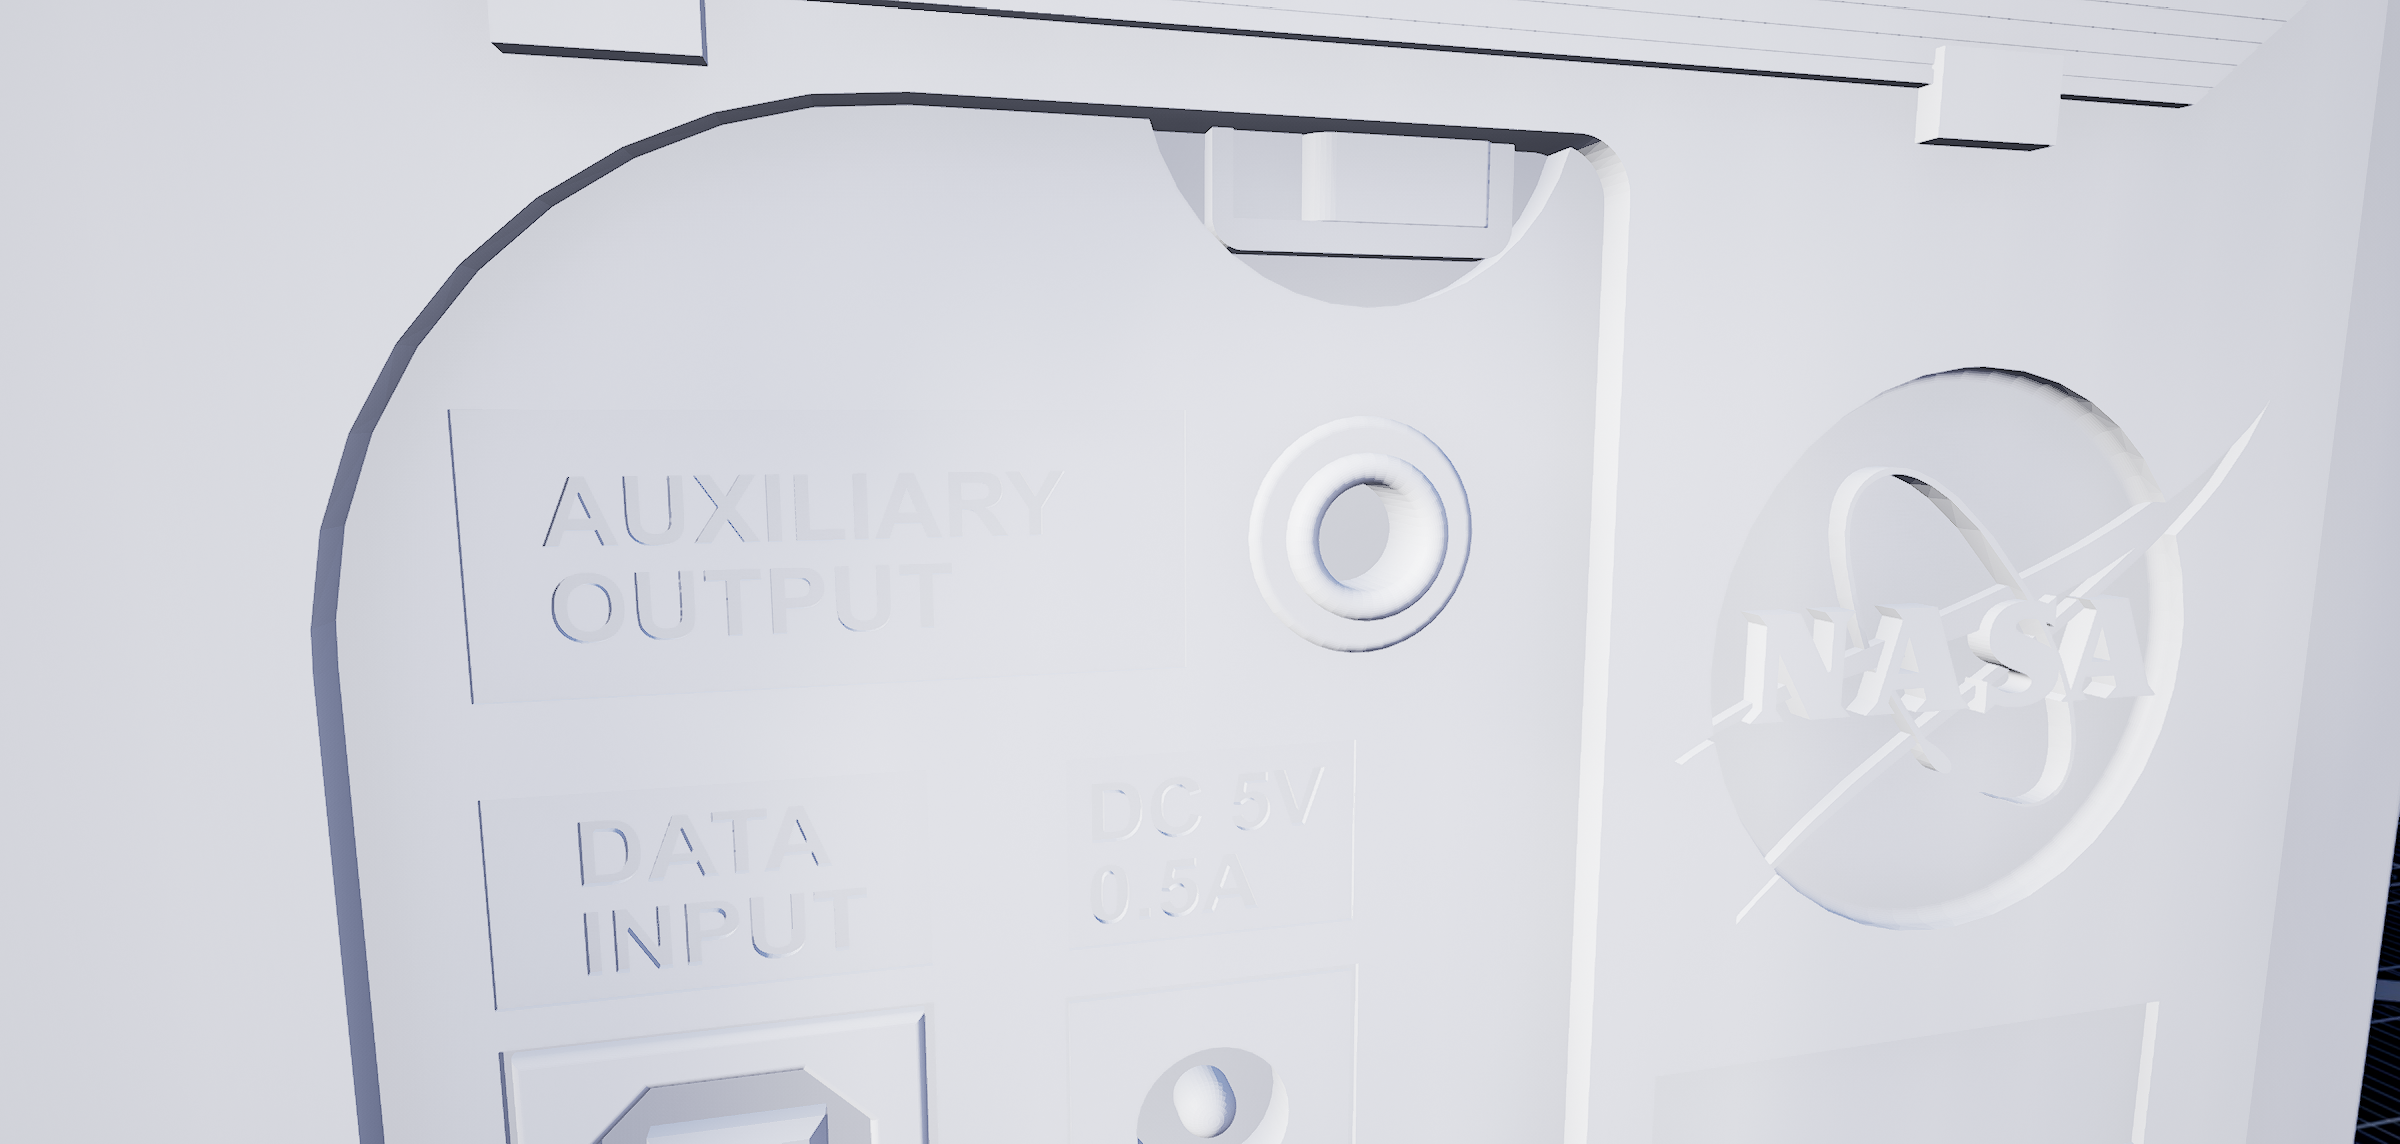aux: (1235, 387, 1492, 669)
dc: (1120, 1046, 1298, 1144)
usb: (549, 1080, 888, 1144)
